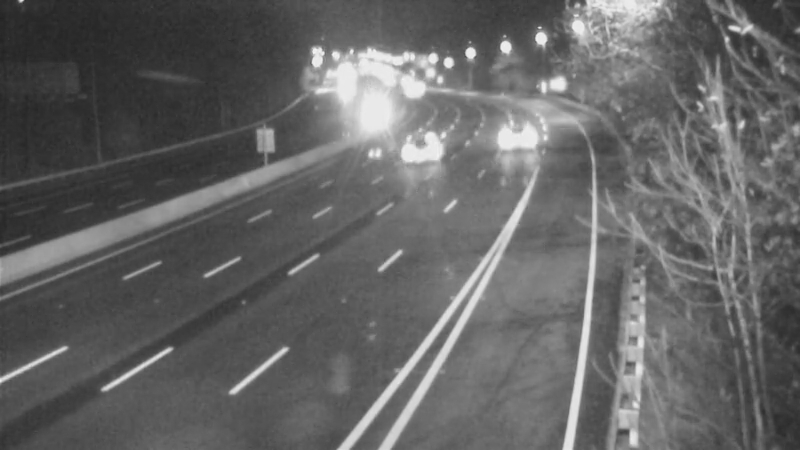vehicle: (490, 112, 540, 162), (399, 124, 449, 174), (348, 78, 398, 128)
